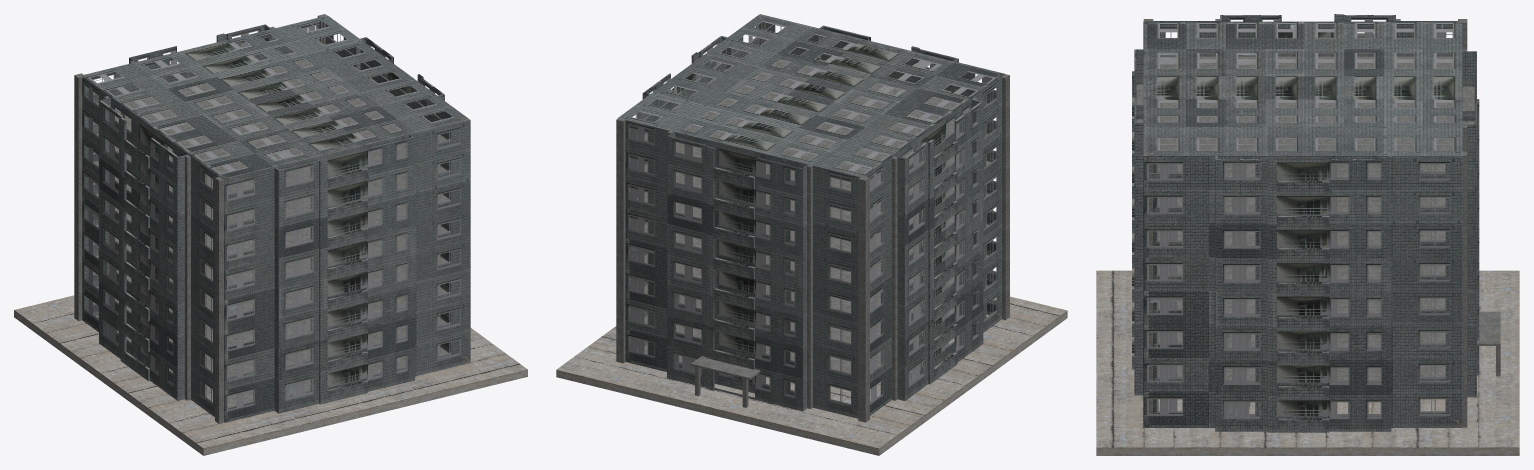
File: BagSS07base_200.fbx
3 renders of one model, left to right at view 1: azimuth 30°, elevation 25°; view 2: azimuth 150°, elevation 25°; view 3: azimuth 270°, elevation 25°, orthographic. The views are drawn at different scales.
Parts seen in each view (by area): view 1: Box01, baseMain300, baseBase300, baseceilings300; view 2: baseMain300, Box01, baseceilings300, baseBase300; view 3: Box01, baseMain300, baseBase300, baseceilings300.
Part boxes in pixels (x1,y1,x2,y2): Box01: [81, 15, 470, 422]; baseMain300: [82, 24, 460, 416]; baseBase300: [14, 295, 527, 455]; baseceilings300: [74, 14, 450, 423]; baseMain300: [625, 22, 1001, 418]; Box01: [617, 14, 1004, 402]; baseceilings300: [616, 22, 1009, 422]; baseBase300: [556, 296, 1067, 455]; Box01: [1143, 21, 1462, 427]; baseMain300: [1132, 14, 1479, 432]; baseBase300: [1096, 270, 1519, 455]; baseceilings300: [1136, 19, 1500, 427].
Size of the model in its own units: 42.24 by 31.16 by 42.72.
